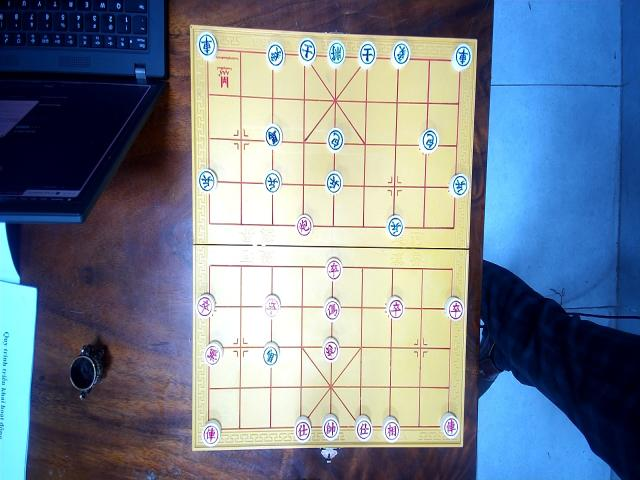piece: (196, 31, 218, 60), (450, 42, 472, 70), (448, 172, 470, 198), (439, 411, 459, 439), (266, 40, 285, 69), (201, 419, 221, 446), (418, 127, 438, 154), (202, 341, 222, 368), (390, 41, 410, 68), (326, 40, 346, 67), (298, 36, 317, 64), (381, 415, 400, 442), (358, 41, 377, 68), (444, 296, 464, 321), (294, 416, 312, 443), (354, 415, 372, 442), (196, 292, 214, 318), (322, 337, 340, 363), (322, 414, 339, 441), (198, 167, 216, 192), (262, 341, 280, 366), (324, 257, 342, 281), (386, 295, 404, 319), (386, 214, 404, 238), (326, 127, 344, 151), (324, 170, 342, 194), (324, 297, 341, 322), (264, 124, 281, 149), (264, 294, 280, 317), (296, 214, 312, 237), (264, 170, 280, 193)
